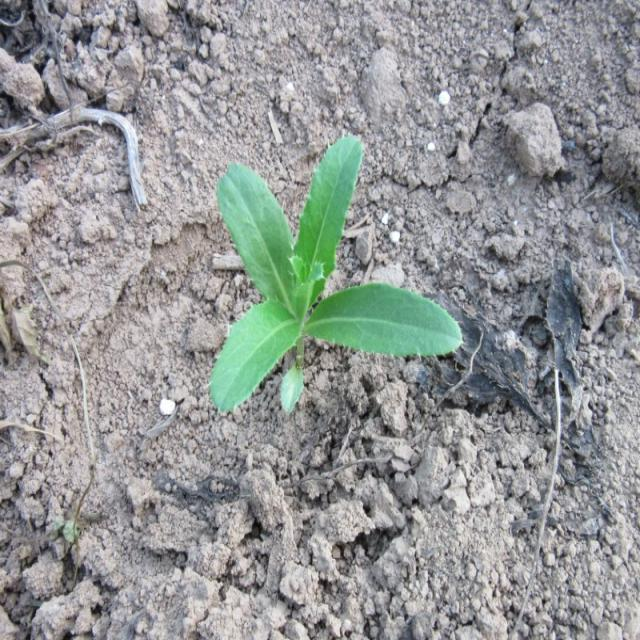cs: (206, 136, 464, 415)
